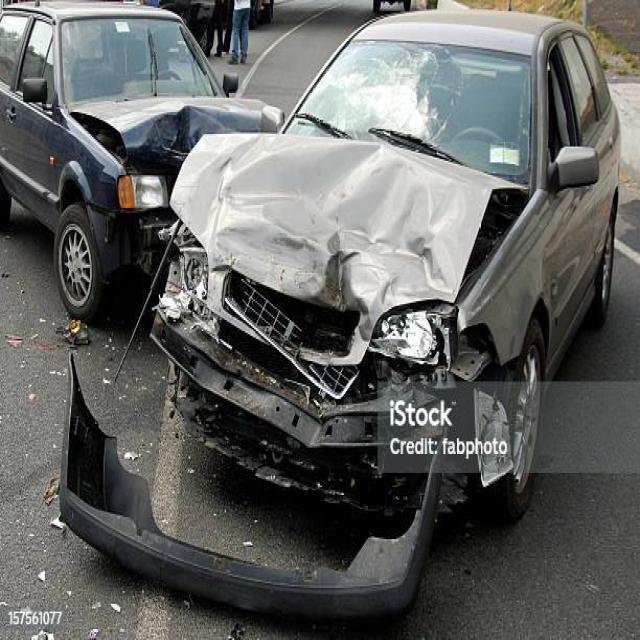Severe Damage: (143, 113, 546, 617)
